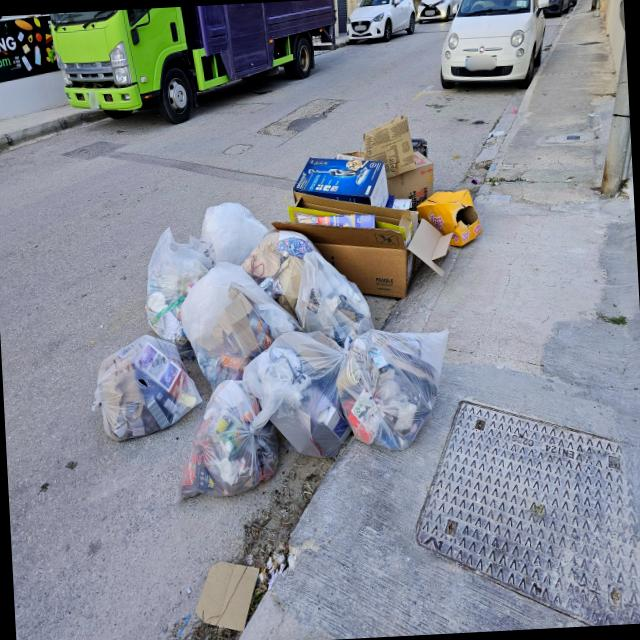grey_bag: (162, 374, 285, 508), (178, 261, 302, 391), (332, 323, 454, 454), (240, 328, 342, 467), (89, 331, 205, 446), (140, 225, 218, 338), (294, 245, 376, 338), (242, 228, 316, 308), (196, 200, 268, 266)
other_waste: (282, 200, 422, 310), (364, 110, 437, 208), (290, 154, 391, 214), (416, 185, 486, 253)
